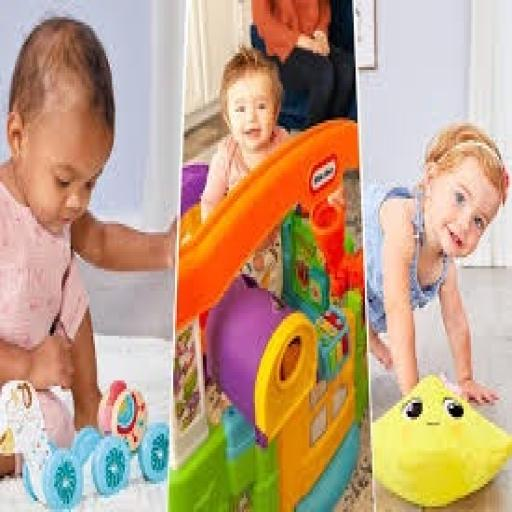baby: (0, 17, 175, 447), (364, 124, 510, 402), (202, 48, 288, 223)
